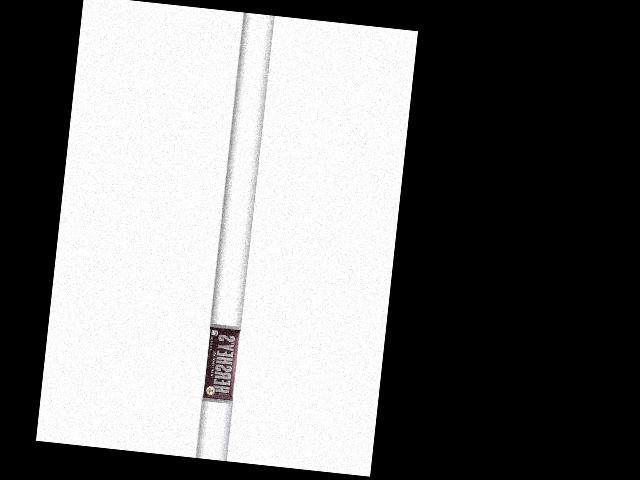chocolate: (198, 323, 239, 402)
